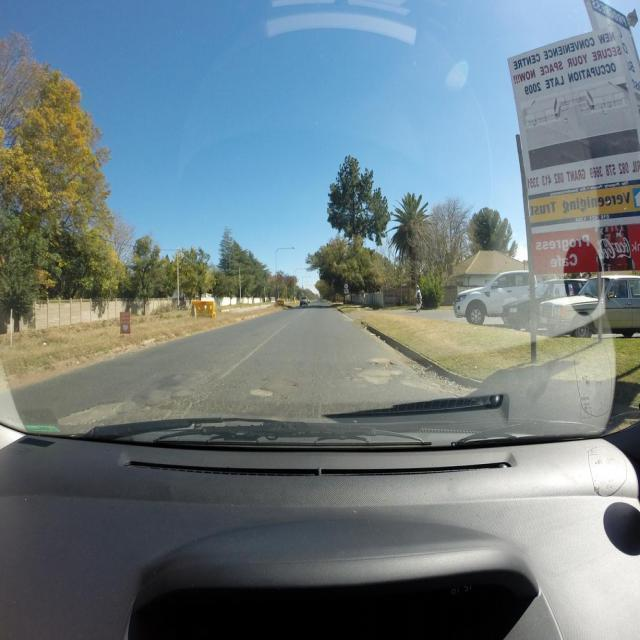pothole: (57, 402, 125, 424), (360, 369, 404, 384), (366, 359, 397, 367), (251, 389, 274, 397)
